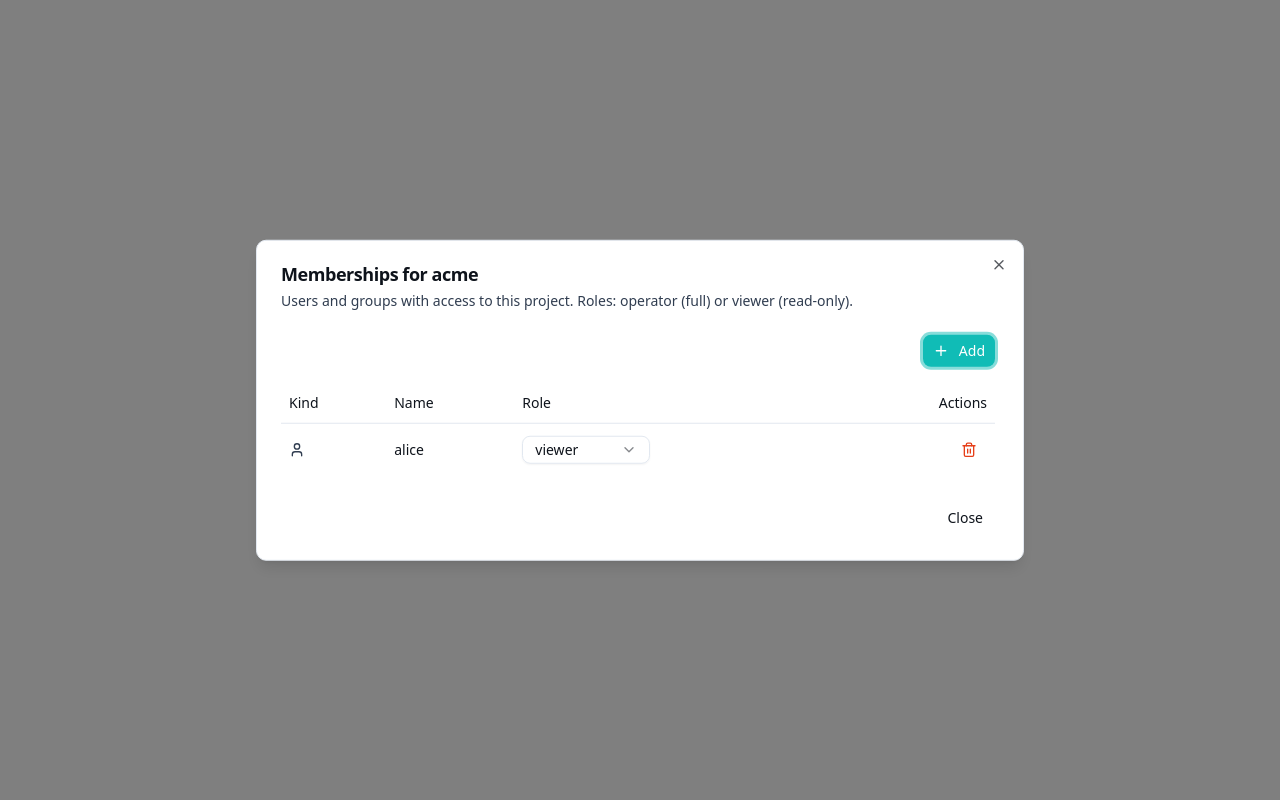
Test: project membership remove › keeps the inline error path for a FAILED remove
The image size is (1280, 800).
Click the button named "Remove alice".
click(969, 449)  # box [951,431,987,467]
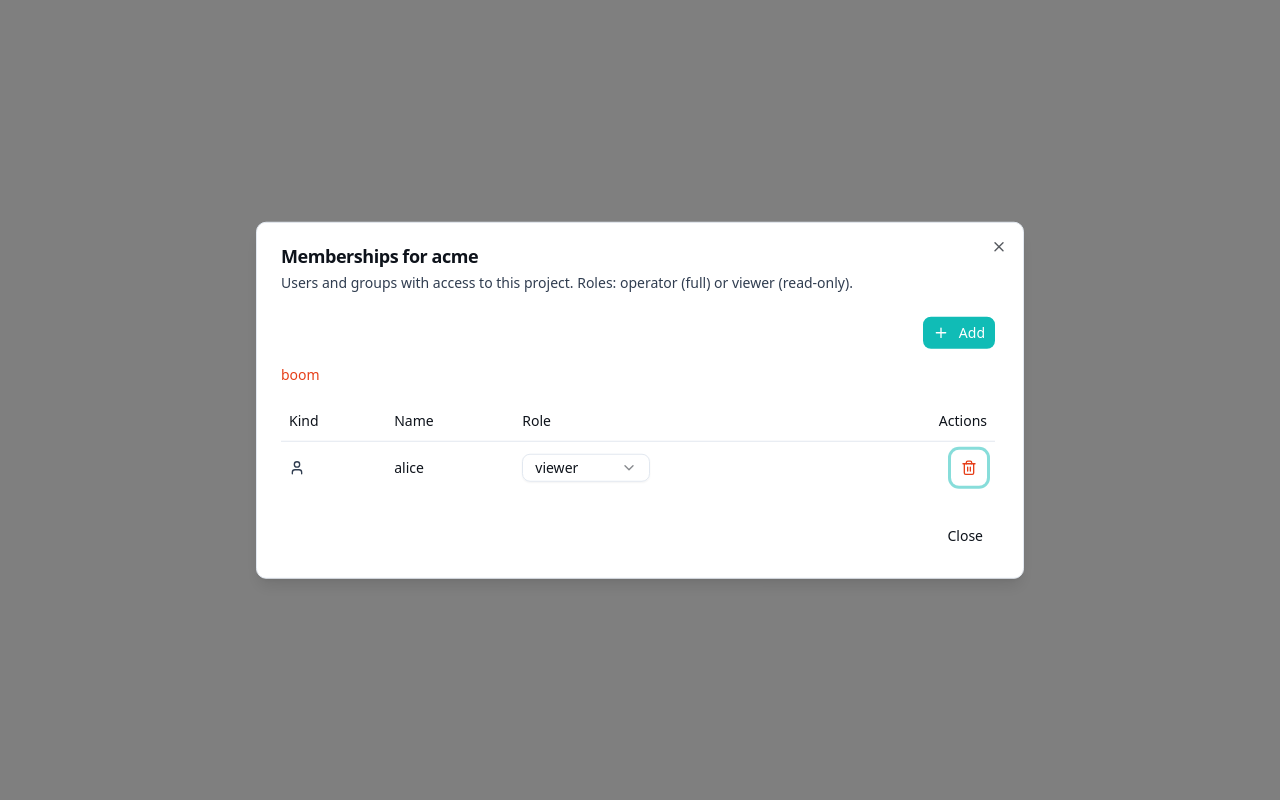
Expected: the text "boom" is shown, [281,365,320,384]
